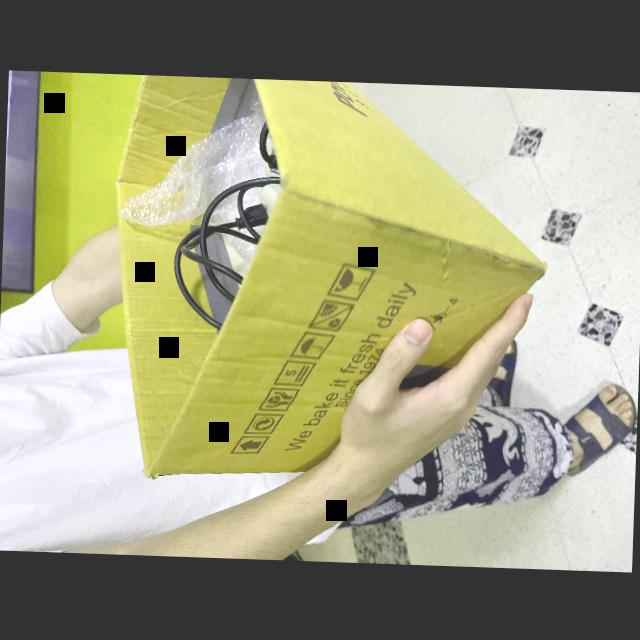cardboard_box: (115, 74, 548, 481)
